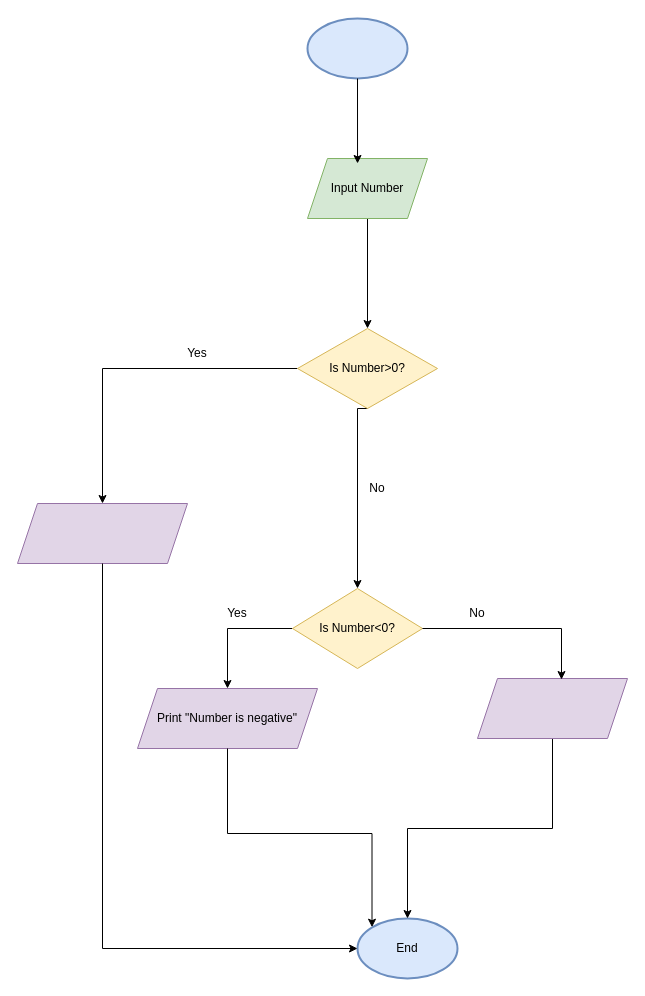
Some shapes in this 645 by 996 pixel diagram are drawn without their labels. Here are the shapes that lost their labels. From the top down, the centre of each, then its label:
pixel 357 48: Start
pixel 102 533: Print "Number is positive"
pixel 552 708: Print"Number is zero"
